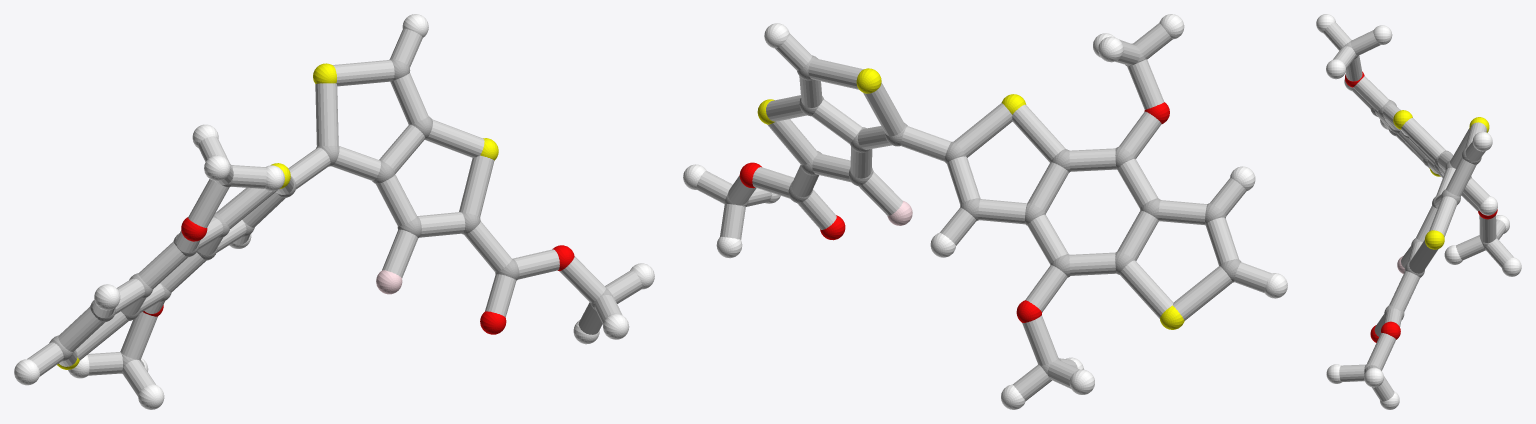
File: color.glb
The picture shows the model from 3 angles, left to right: view 1: azimuth 30°, elevation 25°; view 2: azimuth 150°, elevation 25°; view 3: azimuth 270°, elevation 25°; orthographic projection. The views are drawn at different scales.
Visible parts, largest first — view 1: grp15205, grp8689, grp1, grp13395, grp7241; view 2: grp15205, grp8689, grp1, grp7241, grp13395; view 3: grp15205, grp8689, grp1, grp7241, grp13395.
Part boxes in pixels (x1,y1,x2,y2): grp15205: (27, 28, 642, 396); grp8689: (14, 14, 654, 409); grp1: (49, 58, 613, 373); grp13395: (143, 217, 574, 334); grp7241: (57, 63, 498, 369); grp15205: (696, 23, 1271, 400); grp8689: (683, 14, 1287, 409); grp1: (724, 43, 1241, 374); grp7241: (757, 68, 1184, 329); grp13395: (739, 102, 1169, 322); grp15205: (1323, 22, 1513, 401); grp8689: (1316, 14, 1521, 409); grp1: (1344, 41, 1497, 370); grp7241: (1393, 110, 1489, 249); grp13395: (1345, 71, 1497, 342).
Bounding box in the file's own units: 16.5 × 8.15 × 6.16.
